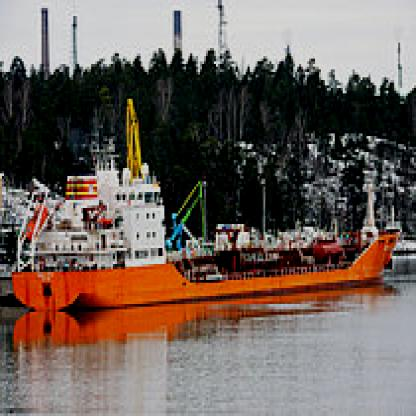Tanker: (10, 85, 400, 323)
